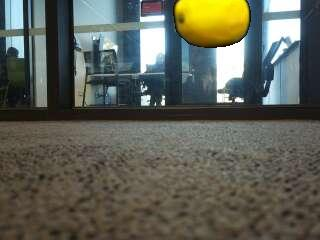lemon: (175, 0, 250, 46)
